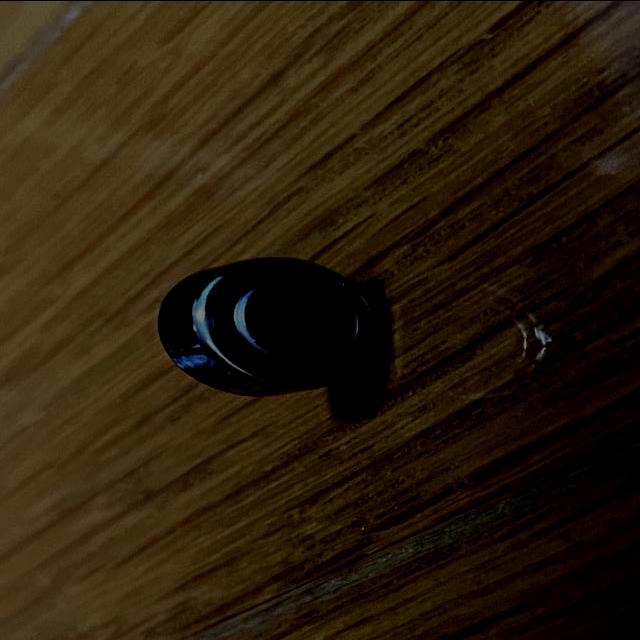COIN: (158, 255, 381, 398)
